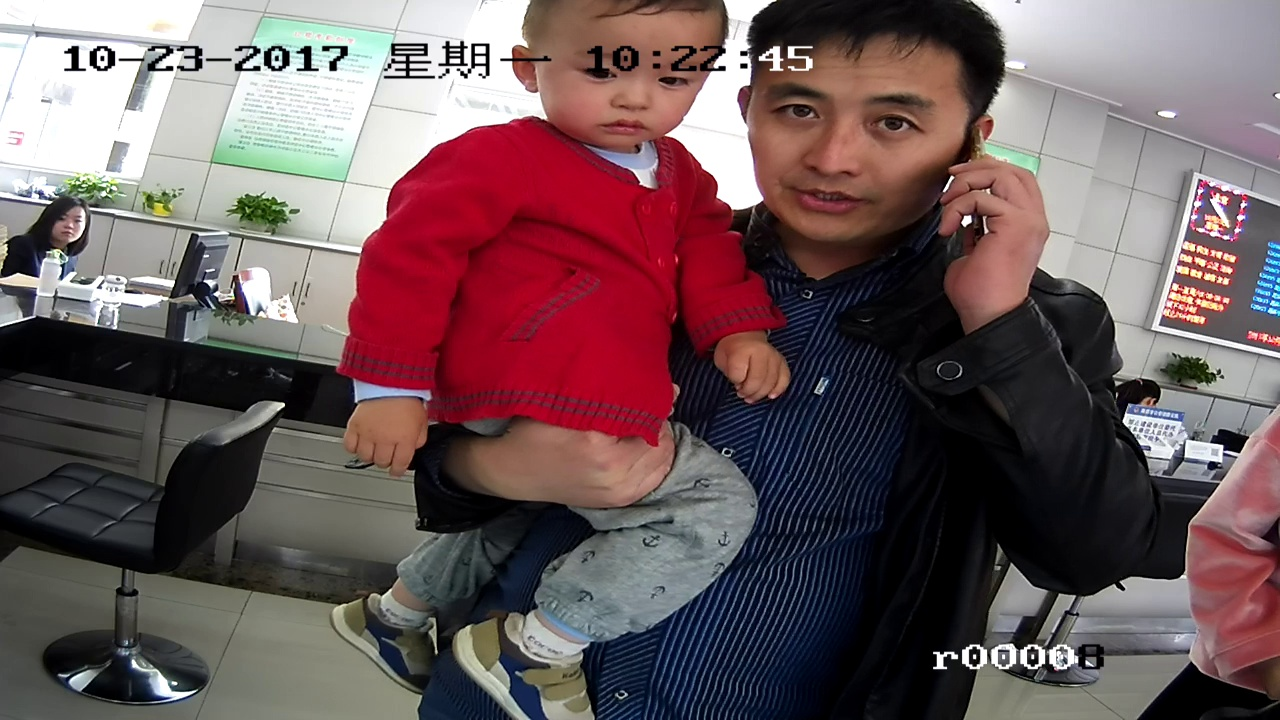billboard: (233, 23, 355, 186)
chair: (22, 432, 267, 683)
person: (740, 1, 1124, 606), (502, 8, 712, 309), (31, 196, 97, 259)
pot: (241, 190, 299, 226)
